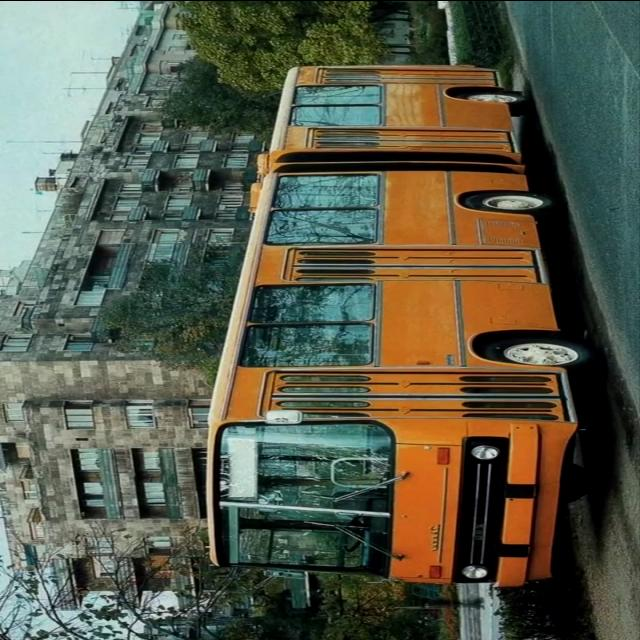bus: (199, 64, 597, 590)
